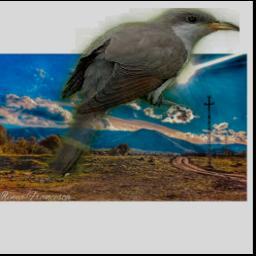Cuckoo: (47, 9, 239, 180)
